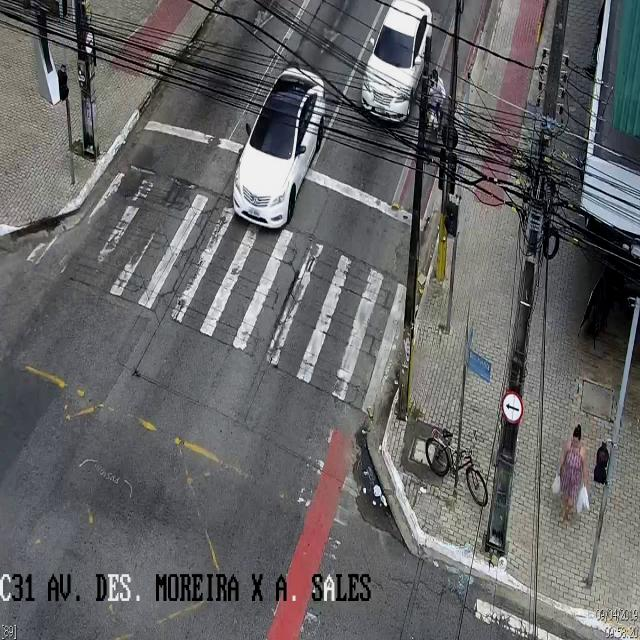Car: (232, 66, 326, 226), (361, 1, 432, 115)
